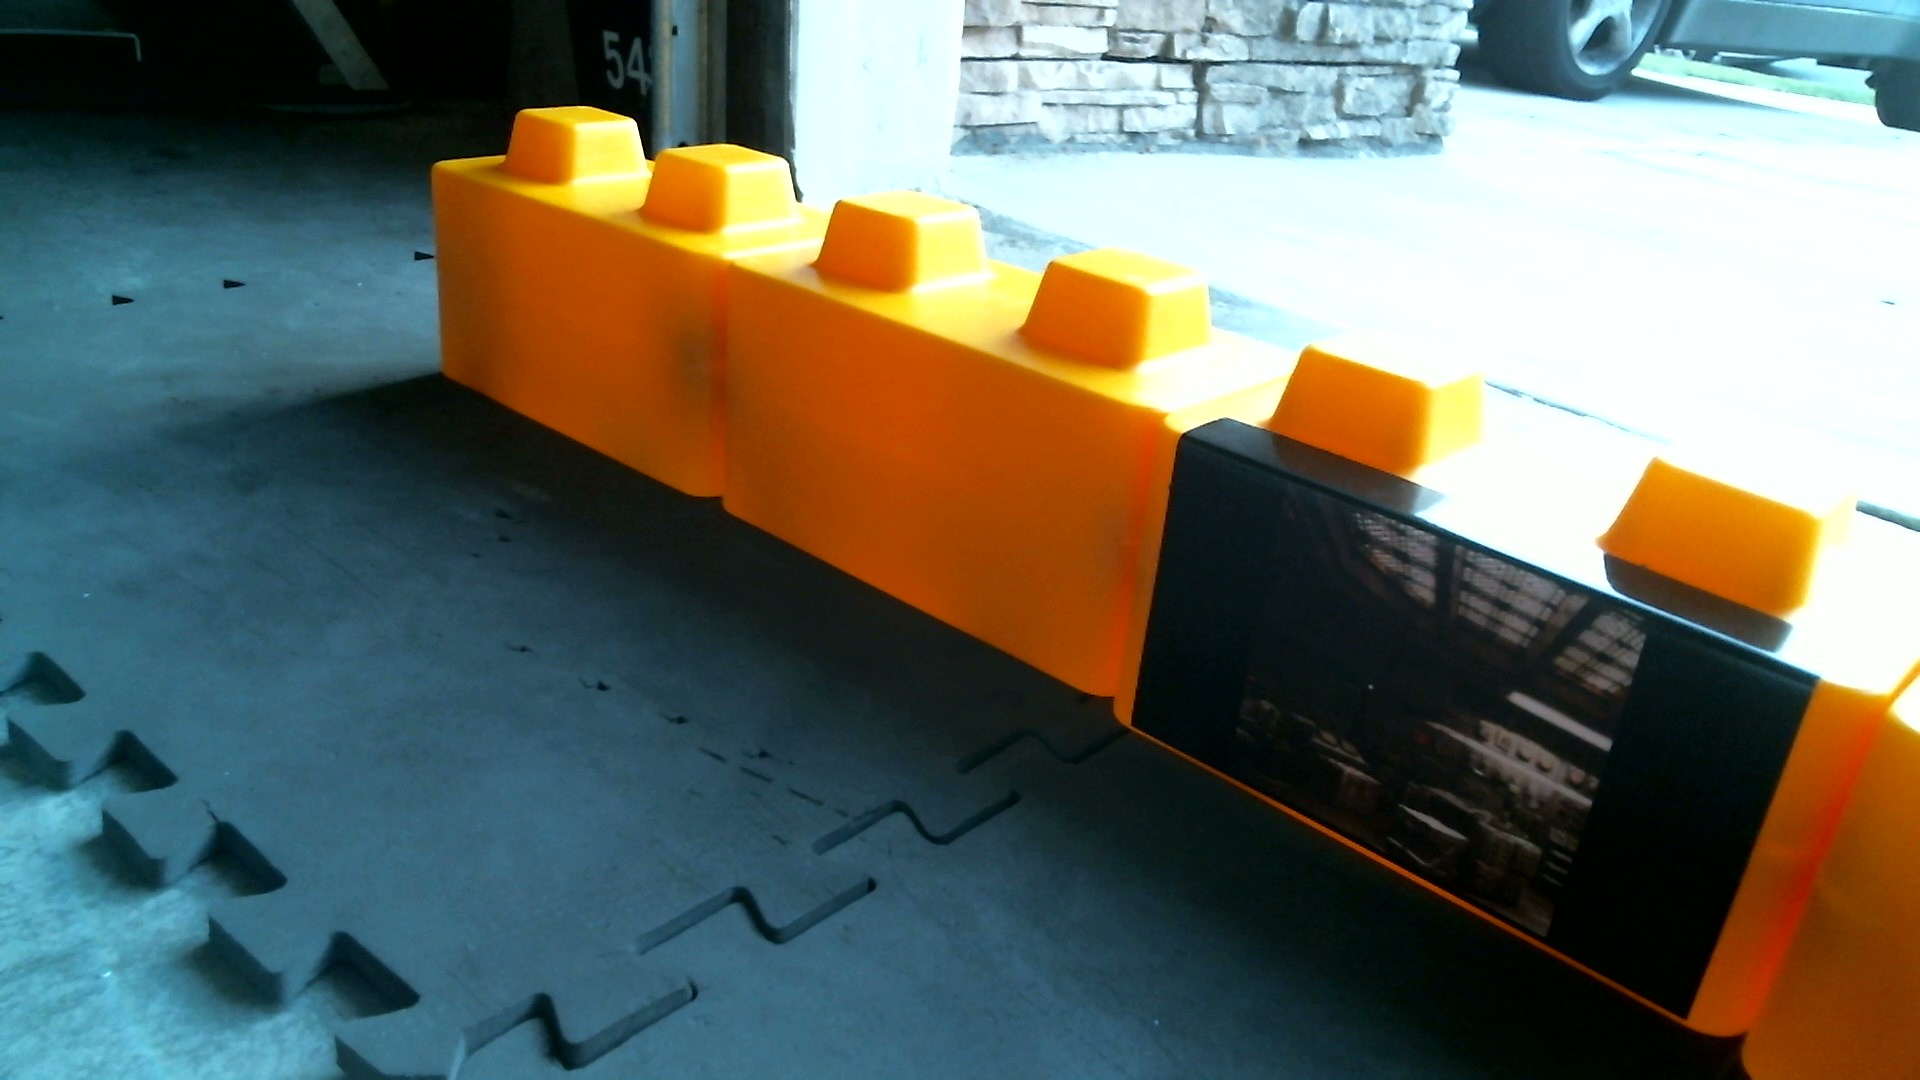right: (400, 87, 1895, 1048)
